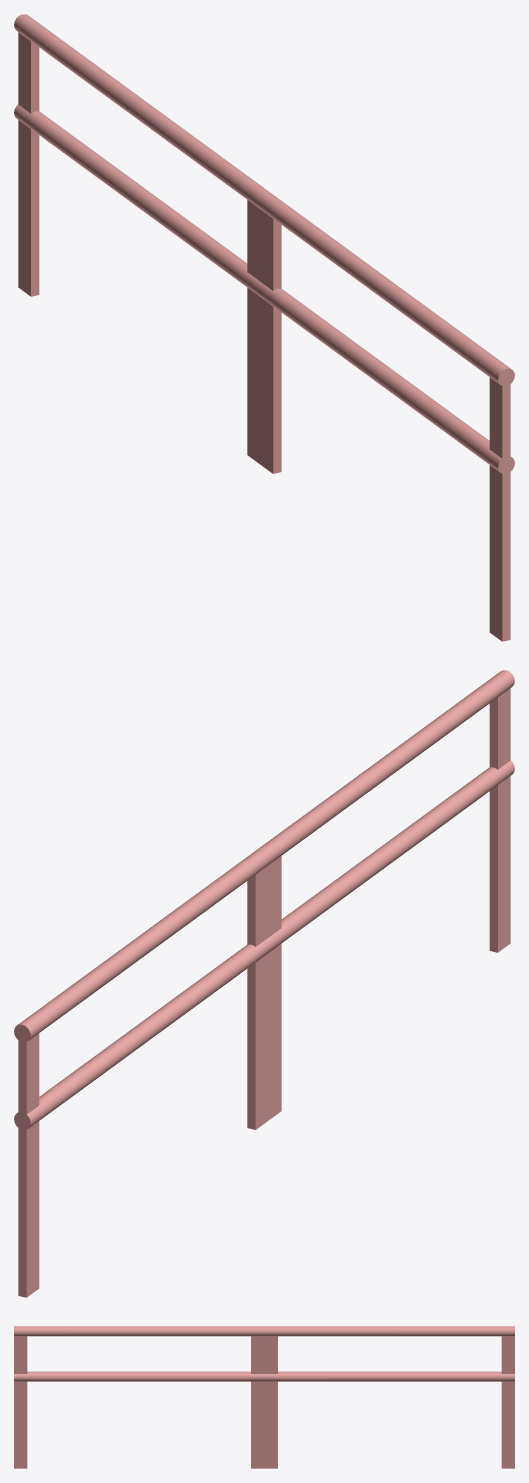
Rendered from mesh_Railing.fbx.
3 renders of one model, top to bottom at view 1: azimuth 30°, elevation 25°; view 2: azimuth 150°, elevation 25°; view 3: azimuth 270°, elevation 25°, orthographic. The views are drawn at different scales.
Visible parts, largest first — view 1: Railing; view 2: Railing; view 3: Railing.
Boxes of the visible parts, x1=… form: Railing: x1=14, y1=14, x2=514, y2=641; Railing: x1=14, y1=670, x2=514, y2=1297; Railing: x1=14, y1=1326, x2=514, y2=1468.
Size of the model in its own units: 6 by 93 by 300.
